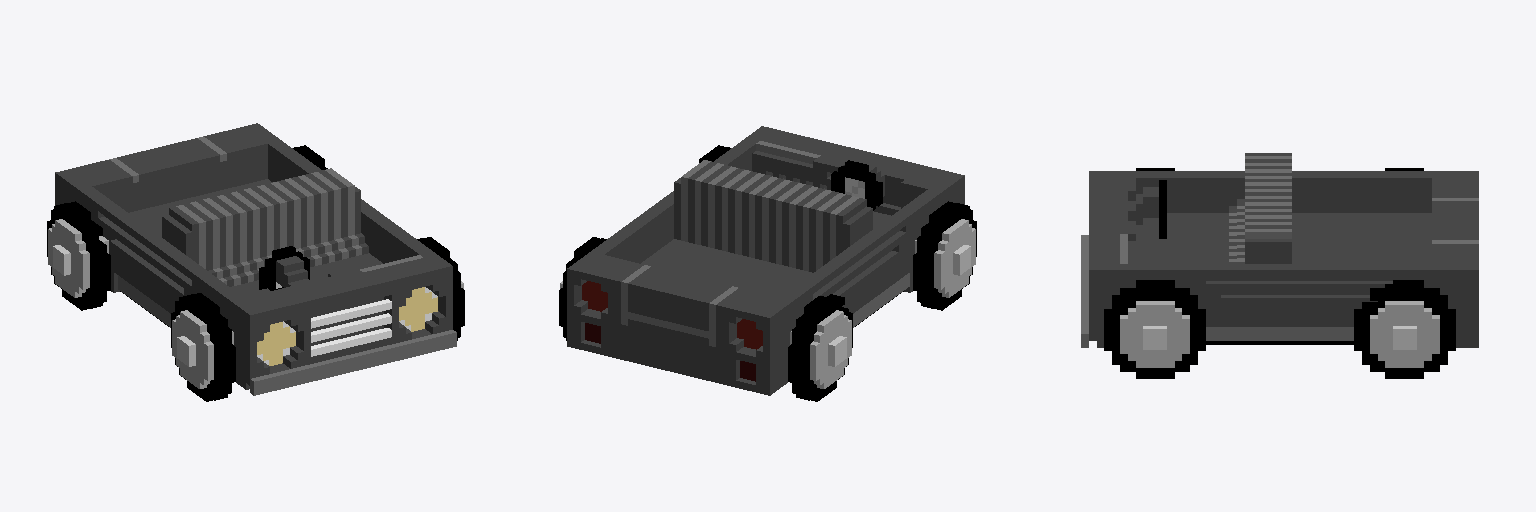
3 views of the same model, side by side, from view 1: azimuth 30°, elevation 25°; view 2: azimuth 150°, elevation 25°; view 3: azimuth 270°, elevation 25° (orthographic).
Size of the model in its own units: 40 by 18 by 51.
Materials: 1 (1 with a texture image).